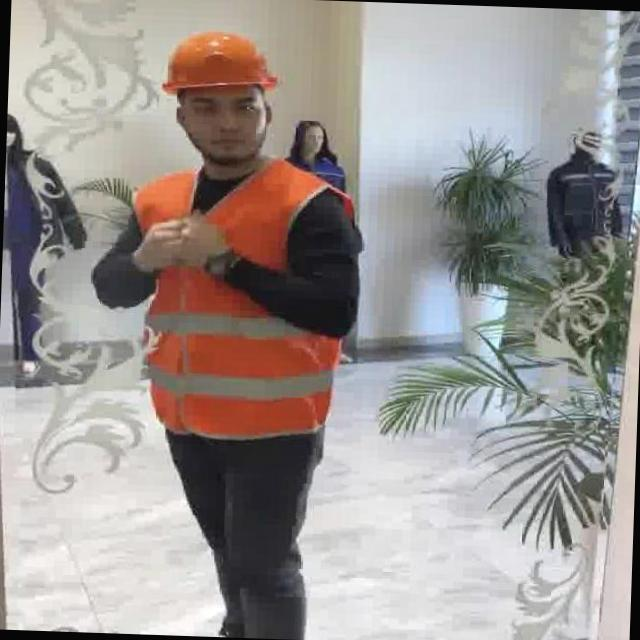vest: (118, 156, 357, 446)
